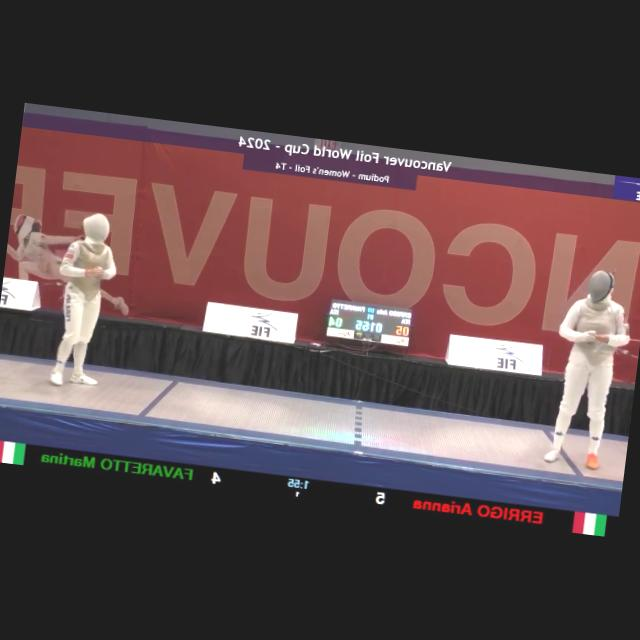blade: (58, 261, 104, 304)
